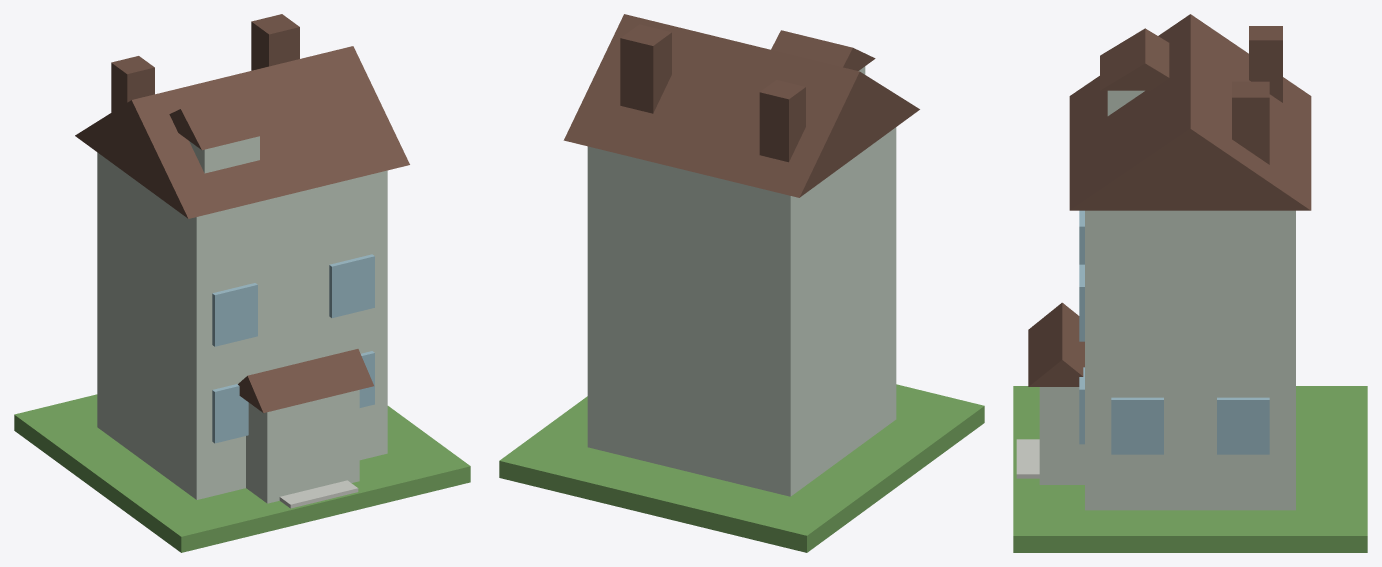
File: house-3.glb
3 views of the same model, side by side, from view 1: azimuth 30°, elevation 25°; view 2: azimuth 150°, elevation 25°; view 3: azimuth 270°, elevation 25° (orthographic). The views are drawn at different scales.
Visible parts, largest first — view 1: house-3; view 2: house-3; view 3: house-3.
Part boxes in pixels (<box>): house-3: <box>14,14,470,552</box>; house-3: <box>499,14,984,552</box>; house-3: <box>1013,14,1367,552</box>.
Bounding box in the file's own units: 0.94 × 1.23 × 0.94.
